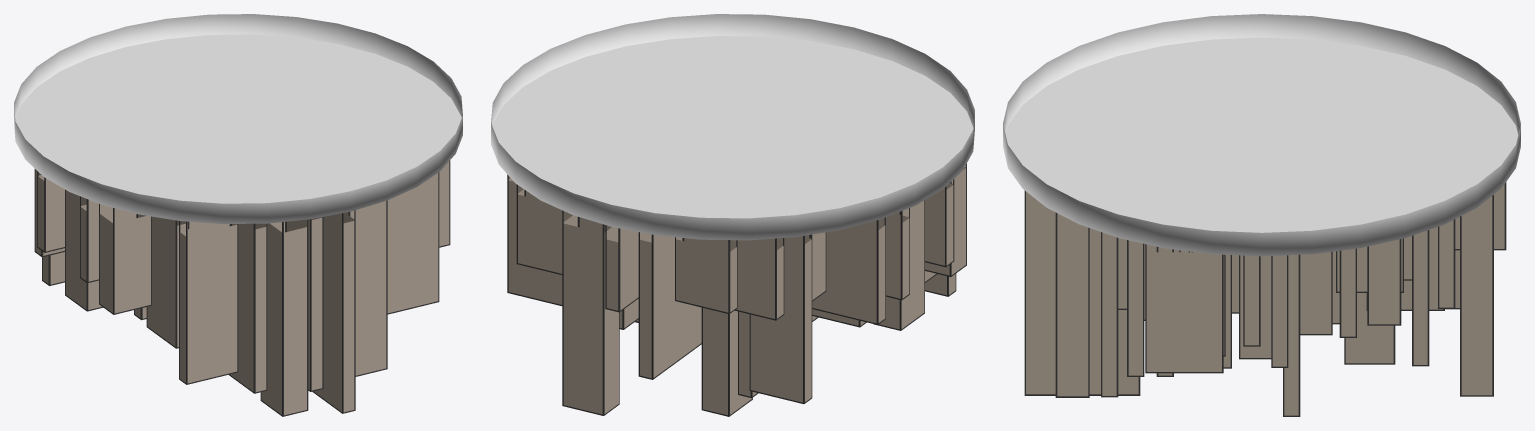
The model's file is White Label Chandelier.fbx.
3 views of the same model, side by side, from view 1: azimuth 30°, elevation 25°; view 2: azimuth 150°, elevation 25°; view 3: azimuth 270°, elevation 25° (orthographic). The views are drawn at different scales.
Parts seen in each view (by area): view 1: Chandelier_Base, Chandelier_Lights; view 2: Chandelier_Base, Chandelier_Lights; view 3: Chandelier_Base, Chandelier_Lights.
Part boxes in pixels (bbox=[...]): Chandelier_Base: bbox=[14, 14, 462, 223]; Chandelier_Lights: bbox=[34, 160, 450, 416]; Chandelier_Base: bbox=[491, 14, 974, 240]; Chandelier_Lights: bbox=[507, 163, 966, 416]; Chandelier_Base: bbox=[1003, 14, 1520, 256]; Chandelier_Lights: bbox=[1024, 182, 1506, 416].
Bounding box in the file's own units: 600 × 338 × 600.
